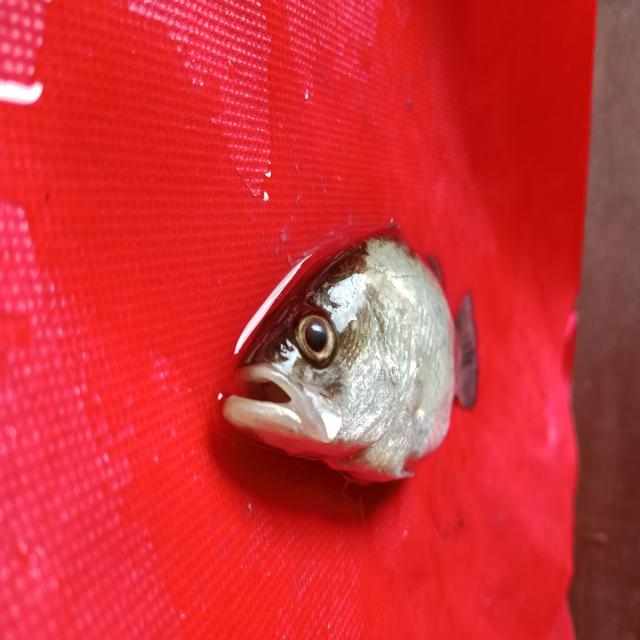ikan: (213, 215, 502, 498)
